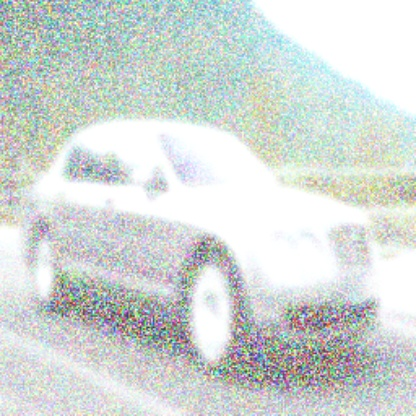Vehicle: (16, 108, 390, 383)
